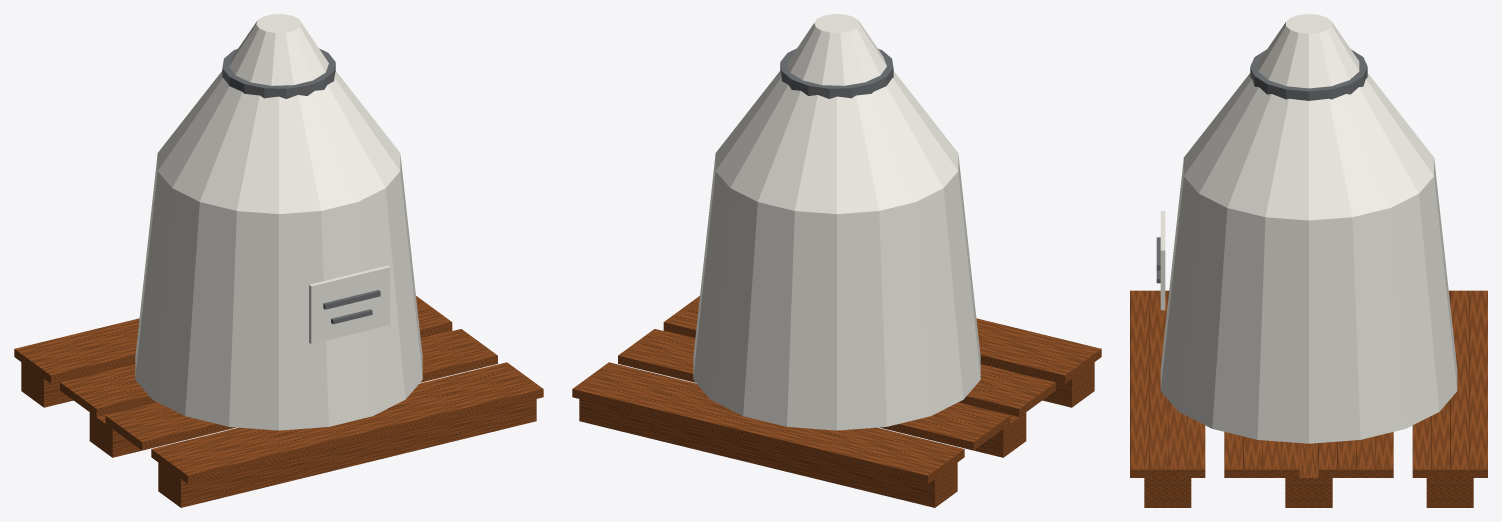
File: woodworking-workshop-and-joinery-woodworking-workshop--a1986bb5__34268.glb
The picture shows the model from 3 angles, left to right: view 1: azimuth 30°, elevation 25°; view 2: azimuth 150°, elevation 25°; view 3: azimuth 270°, elevation 25°; orthographic projection. The views are drawn at different scales.
Visible parts, largest first — view 1: woodworking-workshop-and-joinery-sawdust-collection-bag; view 2: woodworking-workshop-and-joinery-sawdust-collection-bag; view 3: woodworking-workshop-and-joinery-sawdust-collection-bag.
Part boxes in pixels (<box>): woodworking-workshop-and-joinery-sawdust-collection-bag: <box>14,14,543,507</box>; woodworking-workshop-and-joinery-sawdust-collection-bag: <box>572,14,1101,507</box>; woodworking-workshop-and-joinery-sawdust-collection-bag: <box>1130,14,1487,507</box>.
Size of the model in its own units: 0.9 by 0.925 by 0.76.
3 materials, 1 textured.
